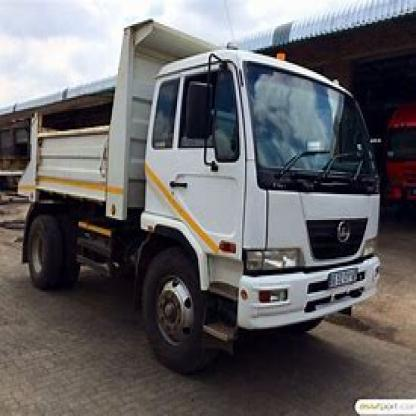dump_truck: (18, 15, 381, 373)
